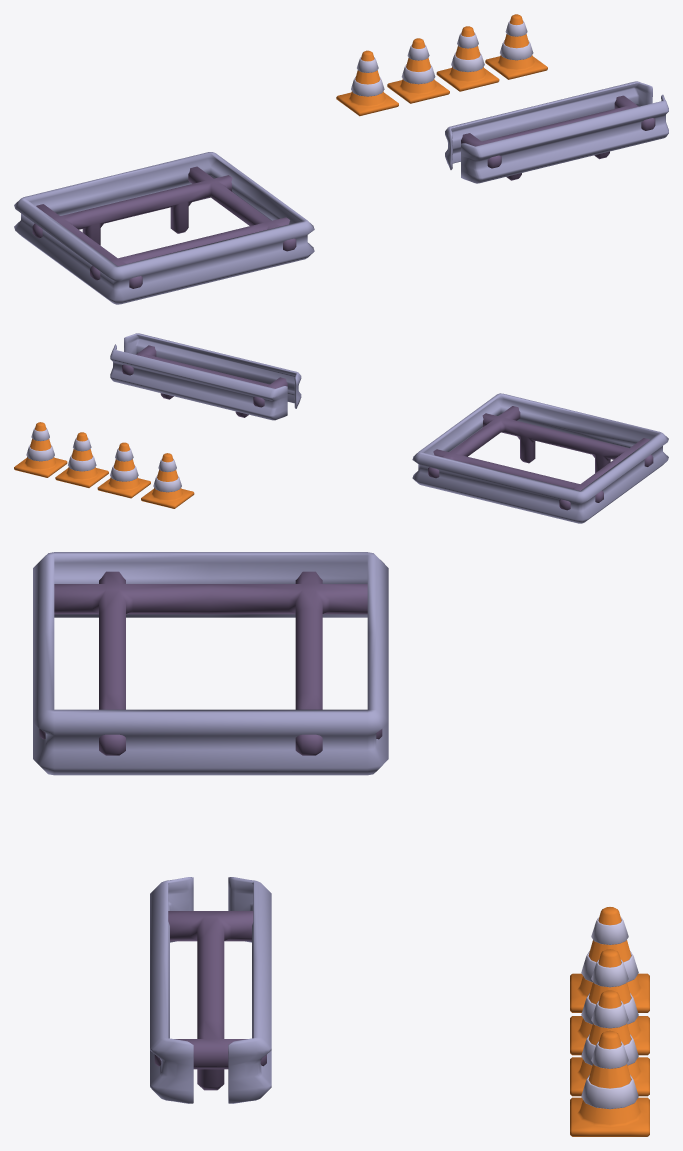
Rendered from buffers.fbx.
The picture shows the model from 3 angles, top to bottom: view 1: azimuth 30°, elevation 25°; view 2: azimuth 150°, elevation 25°; view 3: azimuth 270°, elevation 25°; orthographic projection. The views are drawn at different scales.
Parts seen in each view (by area): view 1: Plane.008, Plane.006, Cube.020, Plane.007, Cube.019, Cube.171, Cube.167, Cube.165, Cube.169, Cube.168, Cube.166, Cube.170 (+1 smaller); view 2: Plane.008, Plane.007, Cube.020, Plane.006, Cube.019, Cube.169, Cube.167, Cube.171, Cube.165, Cube.168, Cube.166, Cube.172 (+1 smaller); view 3: Plane.008, Cube.020, Cube.019, Plane.007, Plane.006, Cube.165, Cube.171, Cube.169, Cube.167, Cube.166, Cube.172, Cube.170 (+1 smaller).
Boxes of the visible parts, x1=… form: Plane.008: x1=14, y1=152, x2=314, y2=304; Plane.006: x1=461, y1=94, x2=668, y2=183; Cube.020: x1=32, y1=166, x2=296, y2=288; Plane.007: x1=445, y1=81, x2=652, y2=169; Cube.019: x1=461, y1=95, x2=655, y2=180; Cube.171: x1=336, y1=50, x2=398, y2=116; Cube.167: x1=436, y1=26, x2=499, y2=91; Cube.165: x1=485, y1=14, x2=547, y2=79; Cube.169: x1=387, y1=38, x2=449, y2=103; Cube.168: x1=451, y1=32, x2=484, y2=72; Cube.166: x1=500, y1=20, x2=533, y2=60; Cube.170: x1=401, y1=44, x2=435, y2=84; Plane.008: x1=412, y1=393, x2=668, y2=523; Plane.007: x1=110, y1=344, x2=287, y2=420; Cube.020: x1=428, y1=406, x2=653, y2=510; Plane.006: x1=124, y1=333, x2=301, y2=408; Cube.019: x1=122, y1=345, x2=287, y2=417; Cube.169: x1=97, y1=442, x2=150, y2=498; Cube.167: x1=55, y1=432, x2=108, y2=487; Cube.171: x1=141, y1=453, x2=194, y2=508; Cube.165: x1=14, y1=422, x2=67, y2=477; Cube.168: x1=68, y1=438, x2=96, y2=471; Cube.166: x1=26, y1=427, x2=54, y2=461; Cube.172: x1=153, y1=458, x2=181, y2=492; Plane.008: x1=33, y1=552, x2=388, y2=775; Cube.020: x1=39, y1=571, x2=382, y2=755; Cube.019: x1=154, y1=911, x2=266, y2=1090; Plane.007: x1=228, y1=877, x2=271, y2=1103; Plane.006: x1=150, y1=877, x2=193, y2=1103; Cube.165: x1=570, y1=1030, x2=649, y2=1136; Cube.171: x1=570, y1=907, x2=649, y2=1012; Cube.169: x1=570, y1=949, x2=649, y2=1055; Cube.167: x1=570, y1=990, x2=649, y2=1096; Cube.166: x1=581, y1=1041, x2=638, y2=1109; Cube.172: x1=581, y1=917, x2=638, y2=982; Cube.170: x1=581, y1=960, x2=638, y2=1024.
Size of the model in its own units: 5488 by 503 by 2877.
